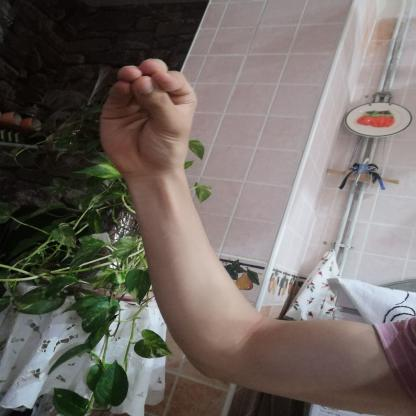HA: (86, 48, 210, 188)
